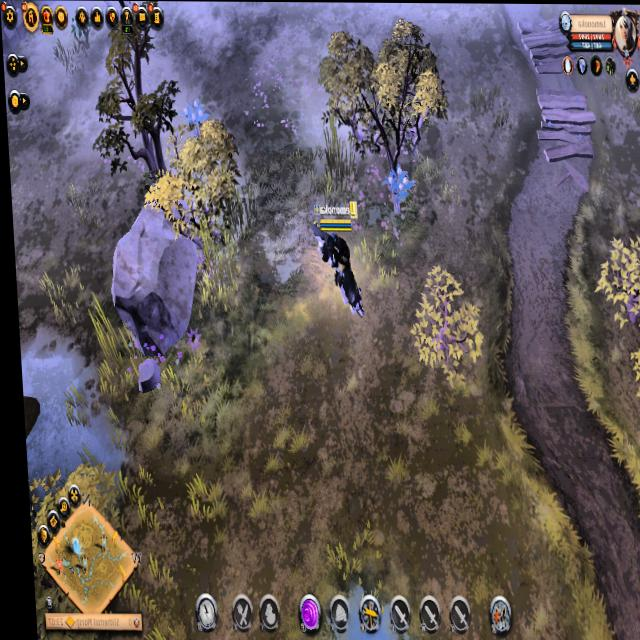fiber tier 4: (379, 161, 415, 212), (179, 93, 209, 139)
